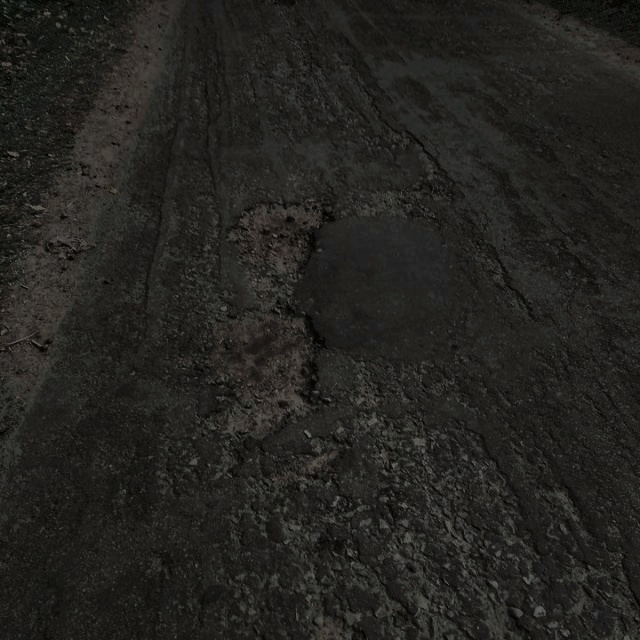Pothole: (187, 302, 331, 449), (222, 192, 339, 290)
